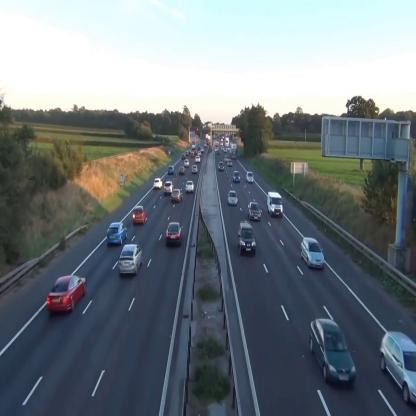car: (309, 318, 357, 387), (379, 330, 416, 408), (46, 275, 87, 317), (118, 242, 144, 276), (300, 237, 325, 272), (237, 222, 257, 255), (106, 221, 128, 248), (166, 223, 184, 246), (248, 201, 261, 223), (132, 206, 146, 226), (171, 188, 183, 205), (164, 180, 174, 196), (228, 190, 238, 206), (152, 177, 162, 189), (186, 179, 194, 194), (246, 170, 254, 183), (233, 169, 240, 183), (178, 166, 186, 175), (168, 165, 175, 175), (184, 158, 190, 168), (218, 161, 224, 171), (192, 166, 198, 174)
lorry: (267, 192, 283, 219)
